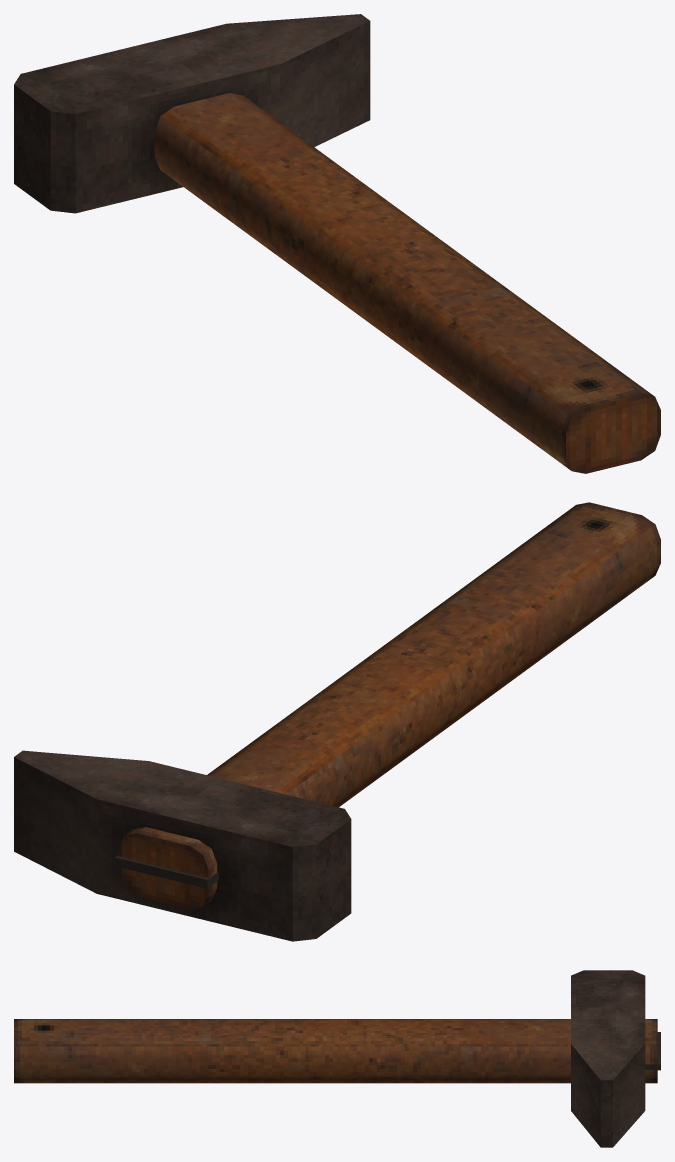
Rendered from hammer_mx_2.glb.
3 renders of one model, top to bottom at view 1: azimuth 30°, elevation 25°; view 2: azimuth 150°, elevation 25°; view 3: azimuth 270°, elevation 25°, orthographic. The views are drawn at different scales.
Parts seen in each view (by area): view 1: hammer_mx_2; view 2: hammer_mx_2; view 3: hammer_mx_2.
Boxes of the visible parts, box(x1,y1,x2,y2) form: hammer_mx_2: box(14, 14, 660, 473); hammer_mx_2: box(14, 502, 660, 941); hammer_mx_2: box(14, 970, 660, 1147).
Size of the model in its own units: 0.21 by 0.06 by 0.5227.
1 material, 1 textured.
